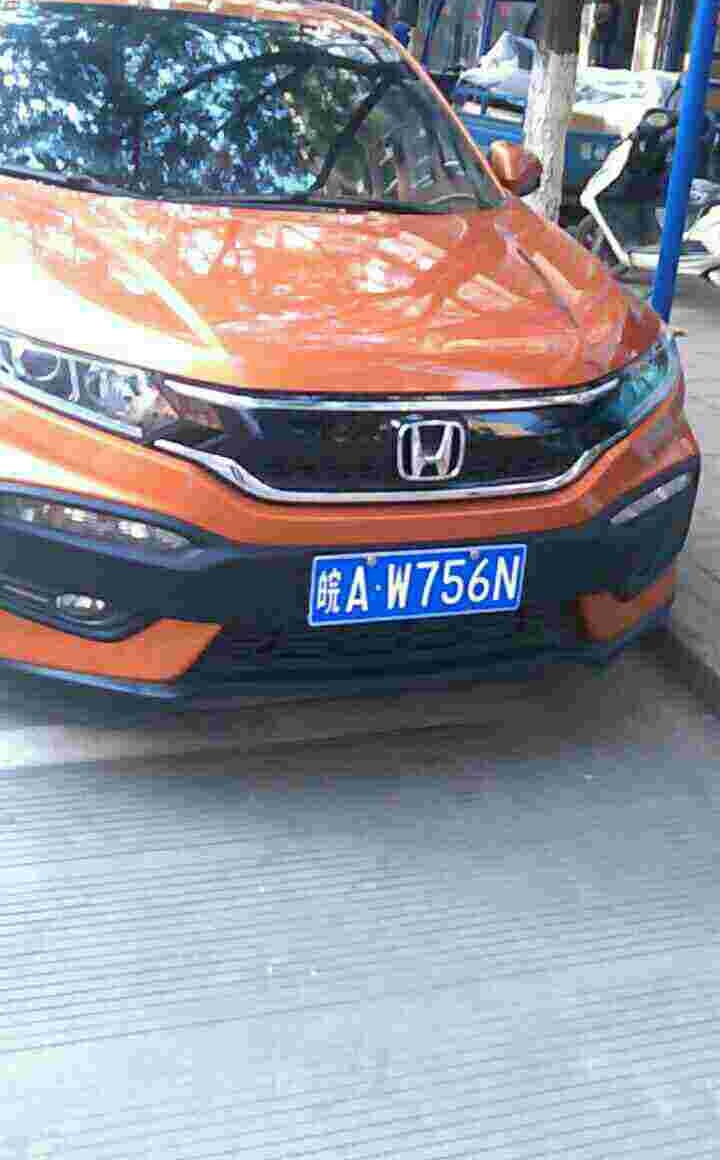license_plate: (300, 550, 522, 628)
